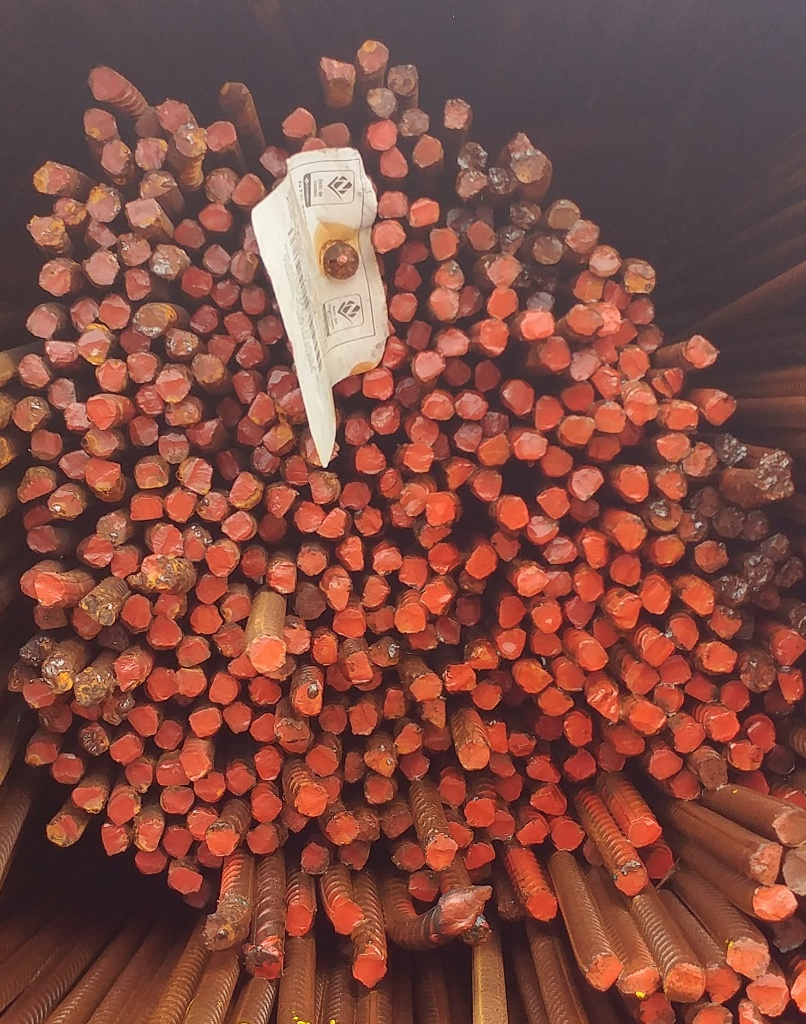dipstick: (726, 933, 772, 981), (745, 973, 791, 1017), (749, 885, 799, 923), (14, 462, 58, 504), (139, 556, 188, 593), (702, 960, 740, 1006), (276, 712, 314, 758), (561, 302, 609, 338), (533, 334, 575, 375), (585, 680, 625, 723), (665, 959, 704, 1003), (772, 800, 806, 850), (85, 457, 125, 499), (752, 465, 795, 504), (677, 577, 720, 616), (85, 63, 130, 100), (37, 254, 76, 296), (22, 570, 70, 604), (742, 646, 777, 692), (29, 157, 72, 194), (660, 397, 703, 434), (113, 651, 150, 694), (499, 374, 535, 418), (76, 322, 111, 367), (667, 717, 708, 755), (83, 393, 125, 430), (97, 139, 136, 178), (176, 456, 215, 495), (81, 247, 119, 287), (277, 103, 318, 140), (130, 301, 171, 338), (770, 625, 806, 667), (750, 842, 786, 884), (145, 523, 188, 558), (47, 483, 86, 521), (162, 485, 200, 524), (150, 240, 188, 279), (652, 460, 689, 500), (203, 820, 243, 857), (44, 812, 84, 849), (474, 316, 510, 357), (246, 636, 287, 672), (640, 574, 674, 617), (155, 366, 193, 404), (569, 462, 606, 501), (609, 550, 646, 589), (586, 952, 623, 991), (22, 301, 59, 340), (625, 386, 661, 426), (698, 638, 739, 673), (131, 454, 172, 489), (128, 488, 170, 522), (531, 390, 564, 433), (377, 803, 415, 840), (419, 579, 457, 616), (74, 670, 111, 708), (523, 883, 559, 922), (243, 819, 282, 855), (702, 389, 737, 429), (93, 354, 128, 394), (27, 212, 67, 247), (194, 199, 234, 234), (528, 785, 573, 816), (566, 217, 600, 258), (523, 512, 564, 546), (145, 664, 178, 706), (183, 415, 225, 448), (184, 705, 227, 737), (712, 431, 749, 468), (611, 514, 648, 551), (121, 757, 158, 794), (10, 394, 47, 431), (162, 324, 199, 361), (132, 137, 170, 173), (201, 914, 237, 952), (770, 916, 806, 954), (27, 428, 65, 464), (550, 658, 589, 693), (202, 166, 236, 206), (617, 464, 651, 504), (426, 487, 459, 528), (534, 685, 575, 718), (216, 79, 252, 116), (376, 146, 412, 183), (611, 859, 647, 896), (353, 951, 389, 988), (24, 733, 61, 769), (94, 510, 131, 546), (436, 324, 474, 359), (496, 493, 531, 531), (512, 563, 550, 598), (562, 710, 597, 748), (212, 624, 250, 659), (148, 615, 186, 650), (453, 139, 492, 173), (512, 428, 551, 462), (609, 723, 648, 757), (464, 636, 503, 670), (81, 108, 121, 141), (355, 36, 388, 76), (692, 538, 732, 571), (668, 611, 701, 651), (224, 759, 257, 799), (156, 756, 196, 789), (99, 291, 132, 331), (740, 502, 772, 543), (638, 992, 679, 1024), (157, 785, 198, 817), (119, 592, 151, 633), (162, 395, 203, 427), (510, 153, 552, 184), (716, 676, 752, 712), (462, 795, 498, 831), (322, 809, 358, 845), (228, 472, 264, 508), (561, 381, 598, 416), (647, 497, 684, 532), (220, 698, 255, 735), (293, 581, 328, 618), (247, 672, 284, 707), (294, 497, 329, 534), (117, 230, 152, 267), (171, 214, 208, 249), (681, 334, 719, 368), (617, 343, 651, 381), (650, 532, 688, 566), (623, 661, 661, 695), (514, 659, 552, 693), (629, 700, 663, 738), (761, 741, 799, 775), (166, 865, 204, 899), (712, 501, 745, 540), (527, 628, 566, 661), (346, 698, 379, 737), (559, 748, 599, 780), (78, 426, 122, 455), (139, 170, 180, 201), (428, 224, 459, 265), (581, 526, 612, 567), (409, 134, 445, 169), (485, 253, 521, 288), (638, 629, 674, 664), (293, 783, 329, 818), (618, 966, 660, 996), (125, 702, 161, 737), (194, 568, 229, 604), (205, 540, 240, 576), (388, 61, 422, 98), (536, 482, 569, 520), (747, 715, 780, 753), (192, 772, 230, 805), (477, 434, 516, 466), (536, 445, 575, 477), (338, 536, 370, 575), (261, 421, 300, 453), (775, 660, 806, 700), (15, 635, 55, 666), (85, 186, 120, 221), (364, 118, 399, 153), (249, 791, 284, 826), (108, 788, 143, 823), (75, 722, 110, 757), (156, 430, 191, 465), (319, 56, 355, 90), (573, 269, 609, 303), (532, 230, 566, 266), (359, 368, 395, 402), (426, 541, 460, 577), (564, 595, 598, 631), (551, 817, 587, 851), (628, 812, 664, 846), (249, 947, 285, 981), (316, 700, 350, 736), (393, 599, 427, 635), (318, 506, 352, 542), (266, 365, 300, 401), (273, 387, 307, 423), (124, 198, 161, 231), (231, 171, 264, 208), (650, 366, 687, 399), (543, 565, 576, 602), (697, 751, 730, 788), (333, 899, 366, 936), (183, 523, 216, 560), (365, 81, 397, 119), (545, 198, 583, 230), (621, 261, 659, 293), (294, 544, 332, 576), (742, 553, 776, 588), (610, 594, 645, 628), (320, 574, 354, 609), (124, 350, 159, 384), (180, 264, 214, 299), (226, 248, 261, 282), (393, 237, 434, 266), (387, 842, 428, 871), (595, 401, 631, 434), (405, 414, 441, 447), (358, 572, 391, 608), (270, 549, 297, 593), (208, 672, 244, 705), (41, 657, 74, 693), (374, 219, 406, 256), (704, 707, 741, 739), (441, 662, 478, 694), (365, 746, 402, 778), (292, 680, 324, 717), (180, 746, 217, 778), (70, 782, 107, 814), (17, 354, 49, 391), (592, 366, 623, 404), (683, 441, 714, 479), (681, 674, 719, 705), (135, 846, 173, 877), (367, 636, 405, 667), (441, 92, 470, 132), (285, 897, 314, 937), (174, 124, 208, 158), (508, 198, 542, 232), (432, 258, 466, 292), (465, 545, 499, 579), (573, 567, 607, 601), (649, 746, 683, 780), (161, 825, 195, 859), (52, 751, 86, 785), (397, 552, 431, 586), (342, 650, 376, 684), (399, 104, 432, 139), (656, 431, 691, 464), (659, 653, 694, 686), (111, 544, 144, 579), (68, 297, 101, 332), (492, 628, 528, 660), (486, 809, 518, 845), (472, 675, 504, 711), (187, 602, 223, 634), (714, 575, 751, 606), (109, 732, 146, 763), (175, 634, 212, 665), (336, 477, 373, 508), (22, 525, 61, 554), (422, 389, 456, 422), (450, 419, 483, 453), (652, 682, 685, 716), (576, 636, 609, 670), (515, 814, 549, 847), (493, 771, 526, 805), (99, 821, 132, 855), (453, 595, 487, 628), (307, 468, 341, 501), (265, 482, 299, 515), (197, 490, 230, 524), (426, 287, 461, 319), (596, 739, 628, 774), (129, 382, 164, 414), (316, 119, 351, 151), (569, 344, 600, 380), (558, 415, 594, 446), (300, 839, 331, 875), (219, 508, 255, 539), (188, 301, 219, 337), (51, 194, 87, 225), (525, 755, 562, 785), (587, 432, 625, 461), (451, 391, 489, 420), (453, 170, 492, 198), (542, 537, 581, 565), (727, 739, 766, 767), (386, 291, 419, 324), (471, 469, 504, 502), (304, 745, 337, 778), (393, 262, 427, 294), (376, 467, 408, 501), (690, 484, 722, 518), (759, 531, 793, 563), (708, 605, 740, 639), (496, 595, 528, 629), (397, 751, 431, 783), (4, 662, 38, 694), (69, 606, 101, 640), (245, 391, 277, 425), (498, 222, 529, 257), (603, 277, 634, 312), (369, 403, 400, 438), (362, 773, 397, 804), (81, 594, 116, 625), (85, 532, 116, 567), (55, 449, 90, 480), (249, 444, 284, 475), (190, 352, 225, 383), (156, 99, 192, 129), (468, 219, 498, 255), (406, 196, 442, 226), (400, 443, 436, 473), (94, 622, 130, 652), (351, 506, 387, 536), (400, 482, 429, 519), (589, 244, 621, 277), (473, 359, 505, 392), (412, 349, 445, 381), (427, 836, 459, 869), (132, 816, 164, 849), (84, 217, 116, 250), (204, 119, 238, 150), (257, 146, 291, 177), (484, 165, 518, 196), (774, 555, 805, 589), (458, 738, 489, 772), (372, 544, 403, 578), (117, 325, 151, 356), (456, 283, 486, 318), (352, 444, 387, 474), (679, 507, 709, 542), (255, 745, 285, 780), (231, 368, 261, 403), (36, 705, 72, 734), (648, 843, 676, 880), (31, 602, 68, 630), (313, 631, 340, 669), (487, 287, 519, 319), (671, 768, 703, 800), (234, 336, 266, 368), (135, 107, 168, 138), (127, 416, 160, 447), (122, 267, 153, 300), (445, 458, 475, 492), (592, 616, 622, 650), (406, 871, 440, 901), (409, 670, 443, 700), (406, 623, 440, 653), (532, 600, 561, 635), (250, 711, 279, 746), (282, 619, 311, 654), (219, 592, 254, 621), (153, 591, 188, 620), (464, 843, 500, 871), (241, 545, 269, 581), (344, 415, 376, 446), (435, 774, 466, 806), (340, 841, 372, 872), (235, 414, 266, 446), (153, 717, 183, 750), (222, 309, 255, 339), (383, 335, 412, 369), (419, 521, 454, 549), (186, 806, 214, 841), (758, 445, 797, 470), (520, 312, 556, 339), (736, 768, 772, 795), (20, 680, 57, 706), (177, 666, 208, 697), (211, 277, 242, 308), (491, 529, 521, 561), (46, 377, 75, 410), (392, 378, 420, 412), (363, 607, 397, 635), (256, 313, 284, 347), (634, 323, 666, 352), (750, 585, 782, 614), (507, 729, 539, 758), (395, 723, 424, 755), (259, 513, 288, 545), (17, 502, 50, 530), (206, 332, 234, 365), (202, 242, 230, 275), (226, 652, 260, 679), (522, 286, 557, 312), (423, 722, 453, 752), (385, 685, 410, 721), (377, 188, 408, 217), (479, 406, 508, 437), (534, 712, 565, 741), (486, 752, 517, 781), (419, 698, 450, 727), (194, 842, 225, 871), (213, 449, 242, 480), (446, 818, 478, 846), (316, 774, 344, 806), (433, 616, 463, 645), (279, 456, 309, 485), (627, 297, 659, 324), (569, 497, 601, 524), (484, 720, 510, 753), (352, 807, 378, 840), (41, 340, 78, 363), (406, 319, 431, 353), (443, 360, 472, 389), (505, 131, 540, 155), (388, 499, 416, 529), (241, 283, 267, 315), (459, 567, 488, 595), (214, 397, 243, 425), (63, 401, 90, 430), (344, 750, 366, 784), (429, 432, 454, 461), (326, 663, 351, 691), (446, 205, 469, 235), (582, 837, 605, 867), (358, 669, 383, 691)
